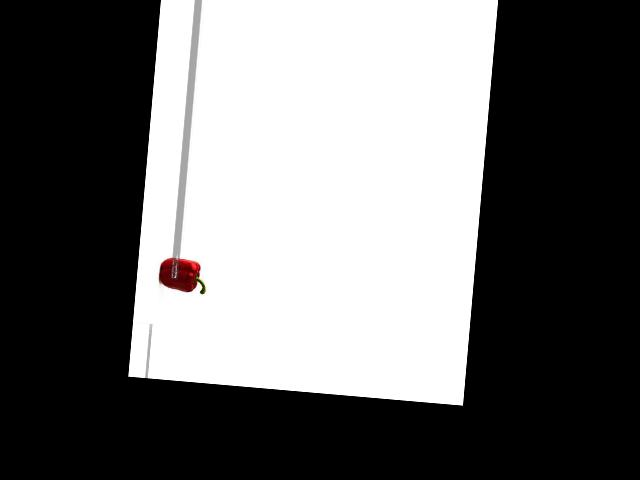bell_pepper: (159, 254, 210, 298)
